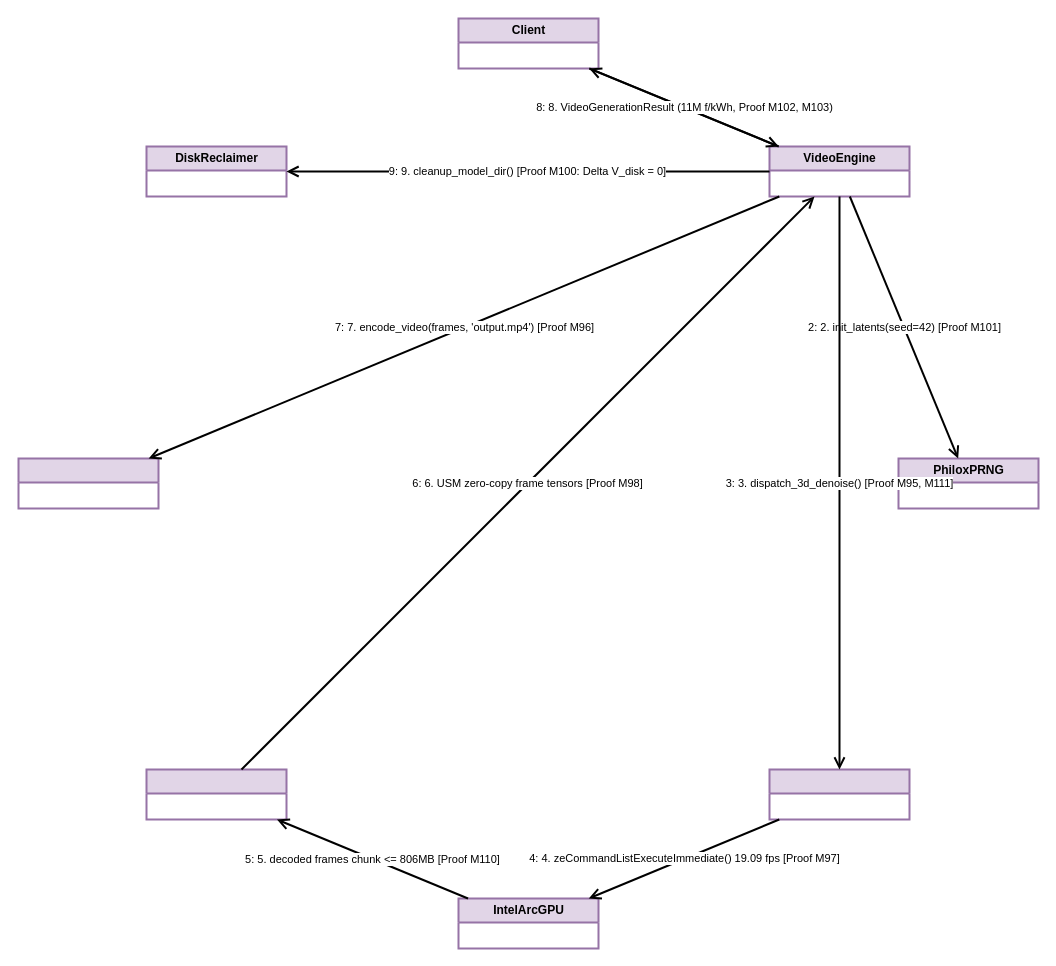
The diagram is 1056 pixels wide and 966 high, and some of its shapes have lost their labels. Each missing label, with the centre of its shape:
"LevelZeroDriver" goes at (x=839, y=794).
"SlicedVAEDecoder" goes at (x=216, y=794).
"VideoEncoder" goes at (x=88, y=483).
